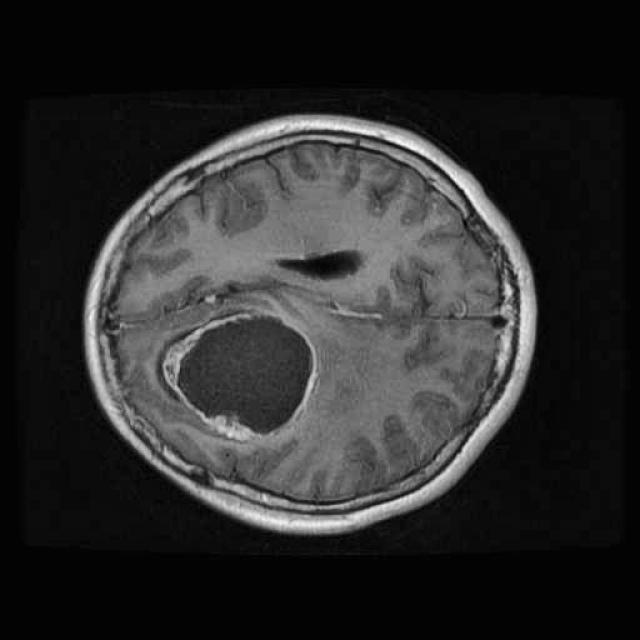Non-Tumor: (151, 296, 326, 454)
